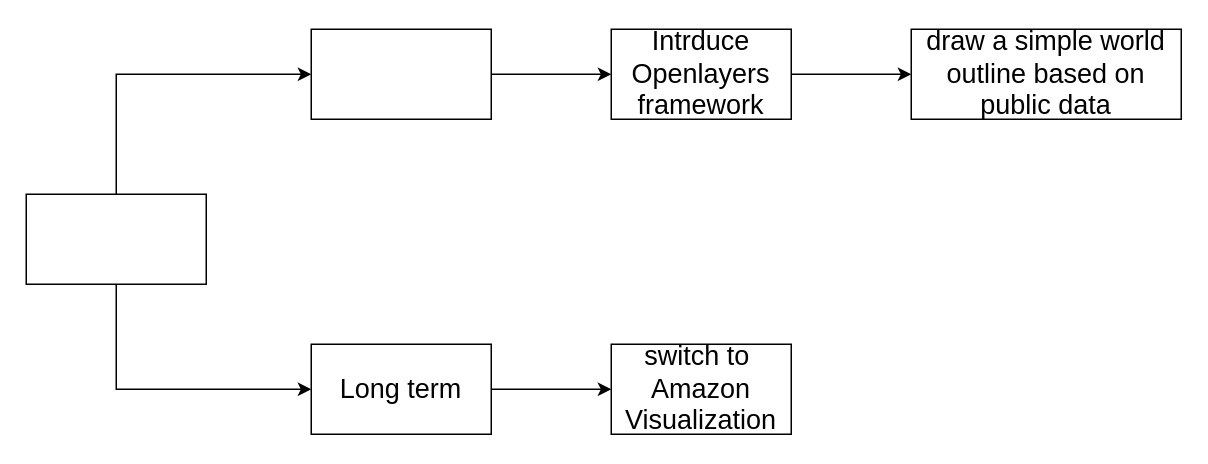
The diagram is 1208 pixels wide and 464 high, and some of its shapes have lost their labels. Here are the shapes that lost their labels. From the top down, the centre of each, then its label:
At [400,73]: "Short term".
At [115,238]: "Solution".
